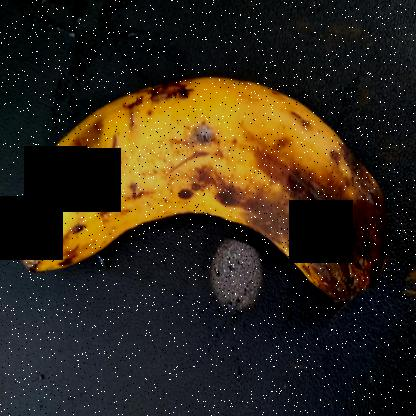rotten: (9, 36, 387, 320)
